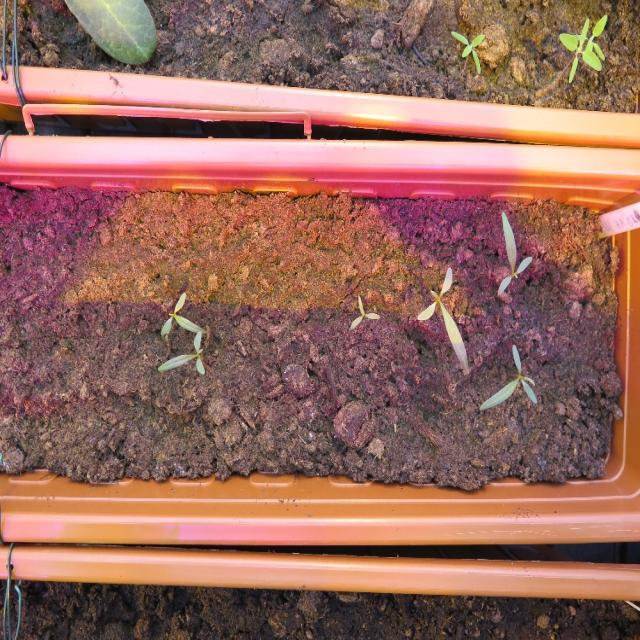weed: (416, 262, 468, 372), (478, 340, 538, 410), (495, 210, 533, 295), (449, 27, 485, 76), (348, 294, 380, 331)
